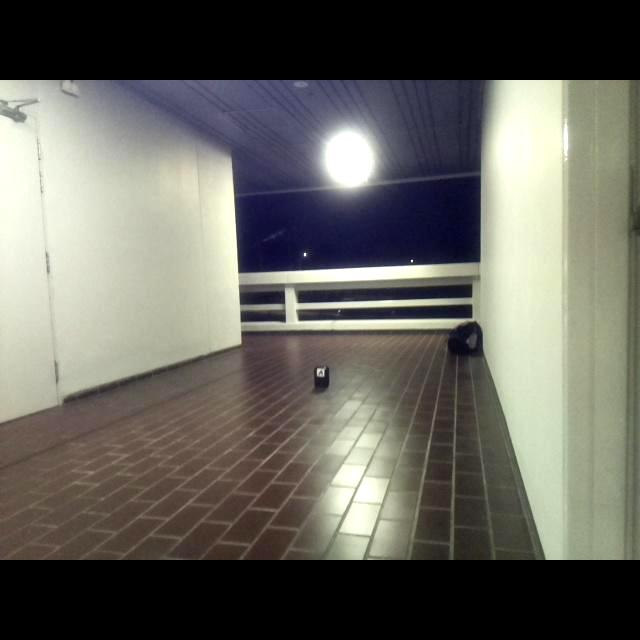A: (317, 368, 325, 375)
